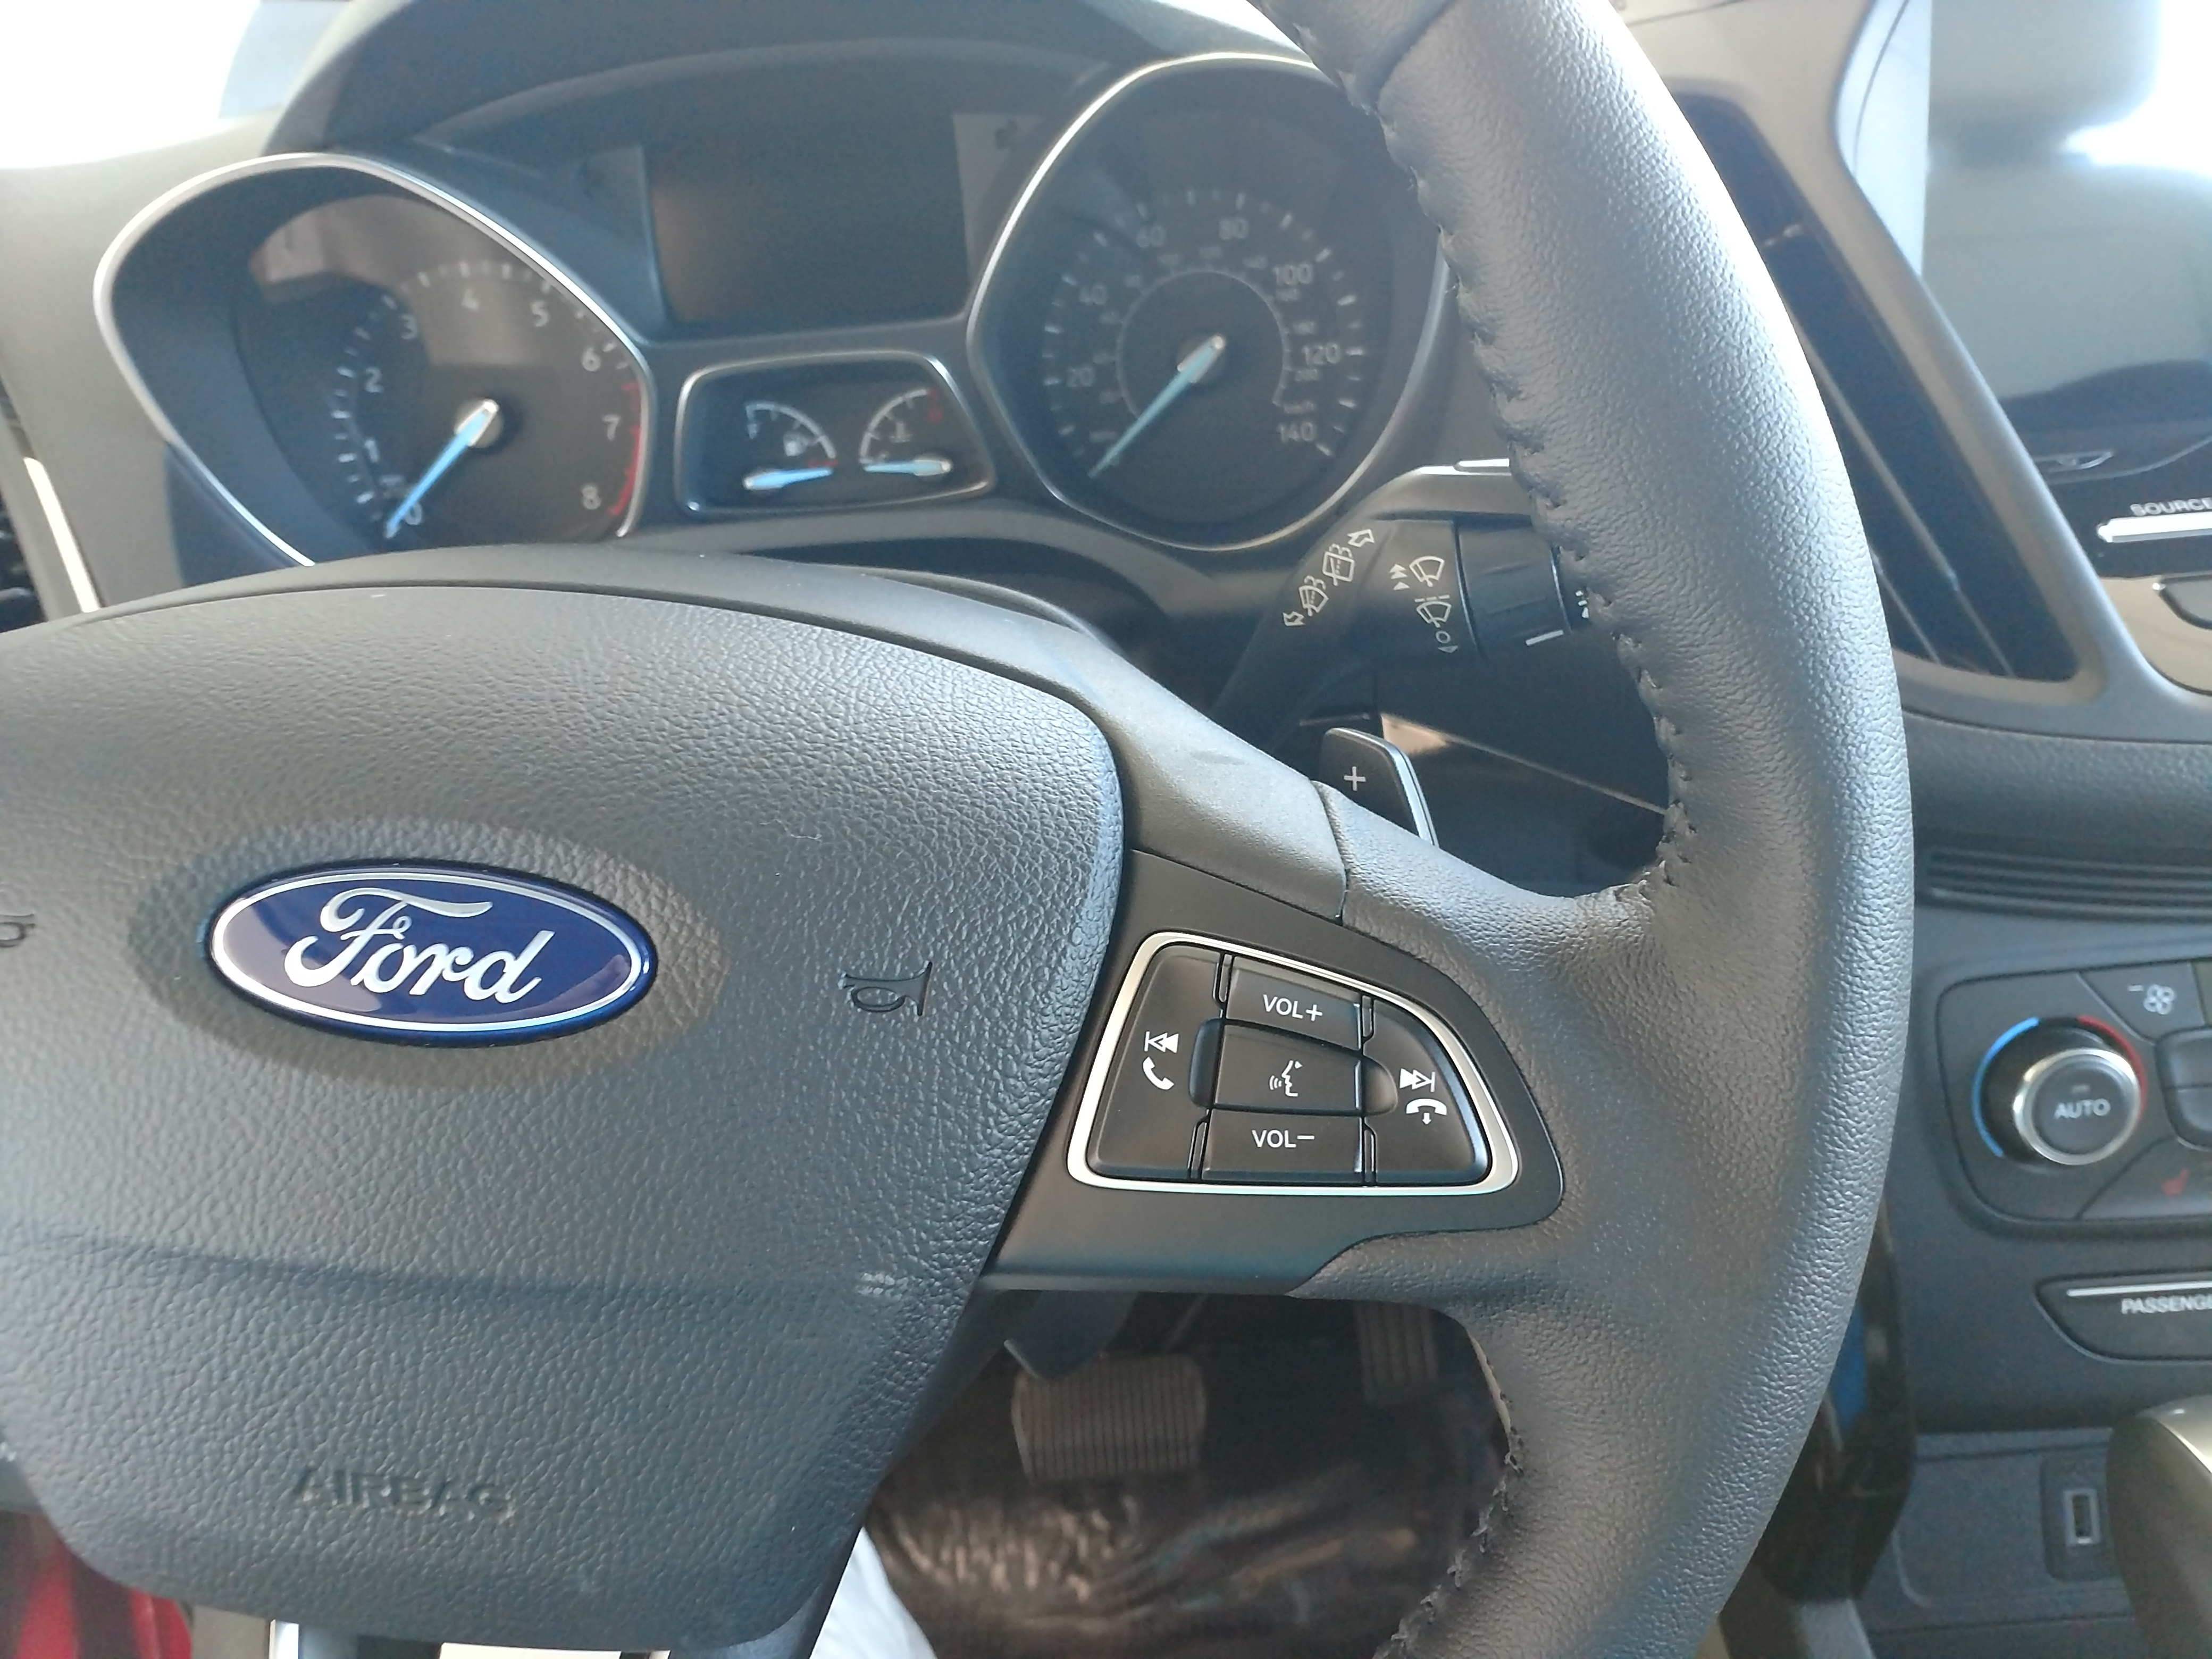Ford: (185, 847, 693, 1068)
